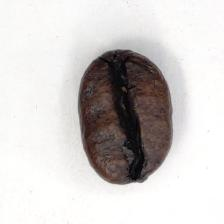NG: (91, 58, 159, 171)
